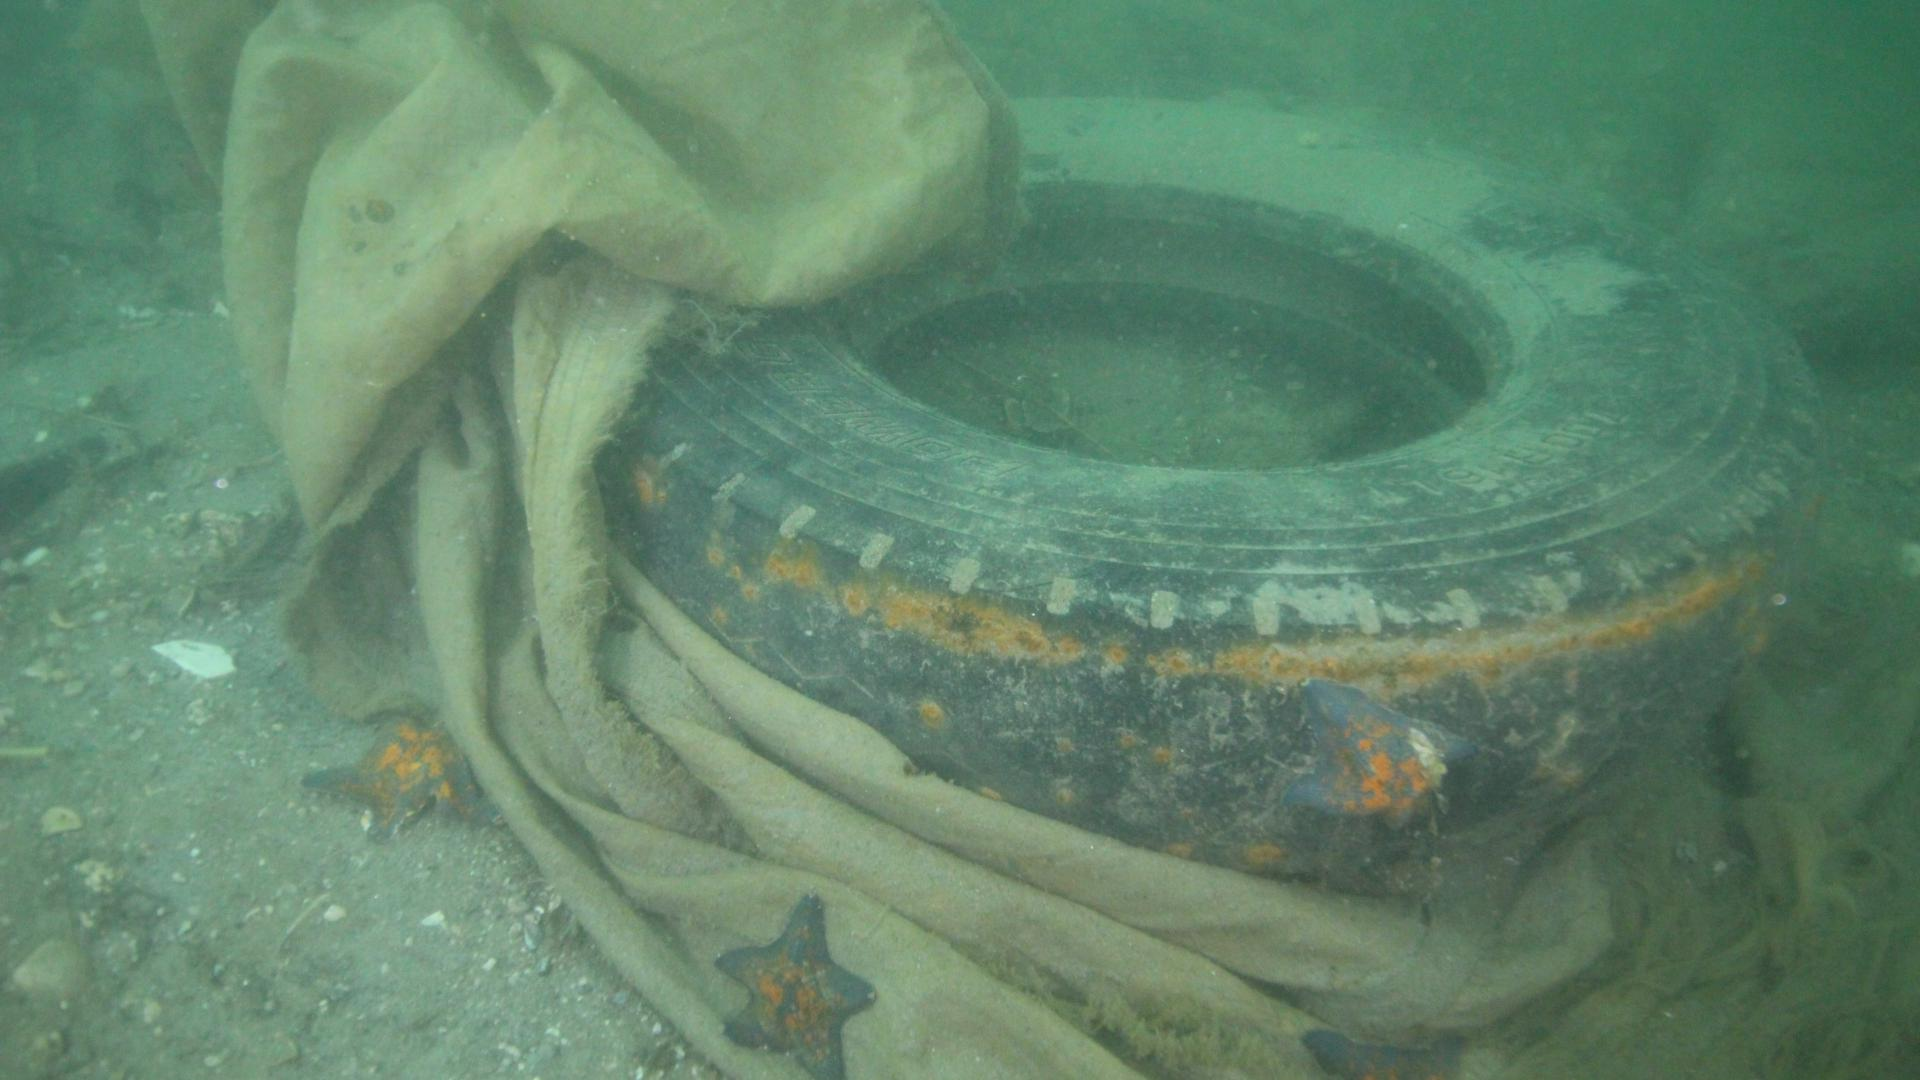tire: (593, 96, 1834, 878)
